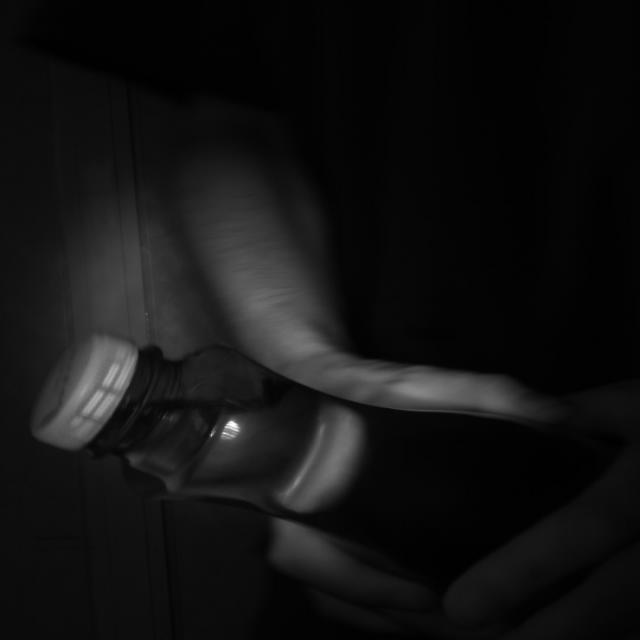Not Good: (31, 332, 160, 454)
